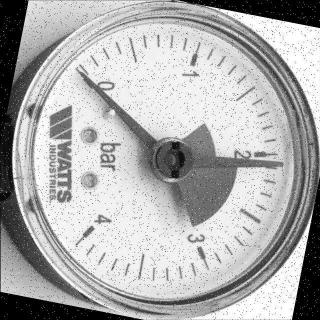gauge: (0, 0, 320, 320), (146, 134, 198, 188), (70, 208, 115, 248), (78, 68, 121, 109), (74, 66, 92, 84), (270, 157, 288, 173)
